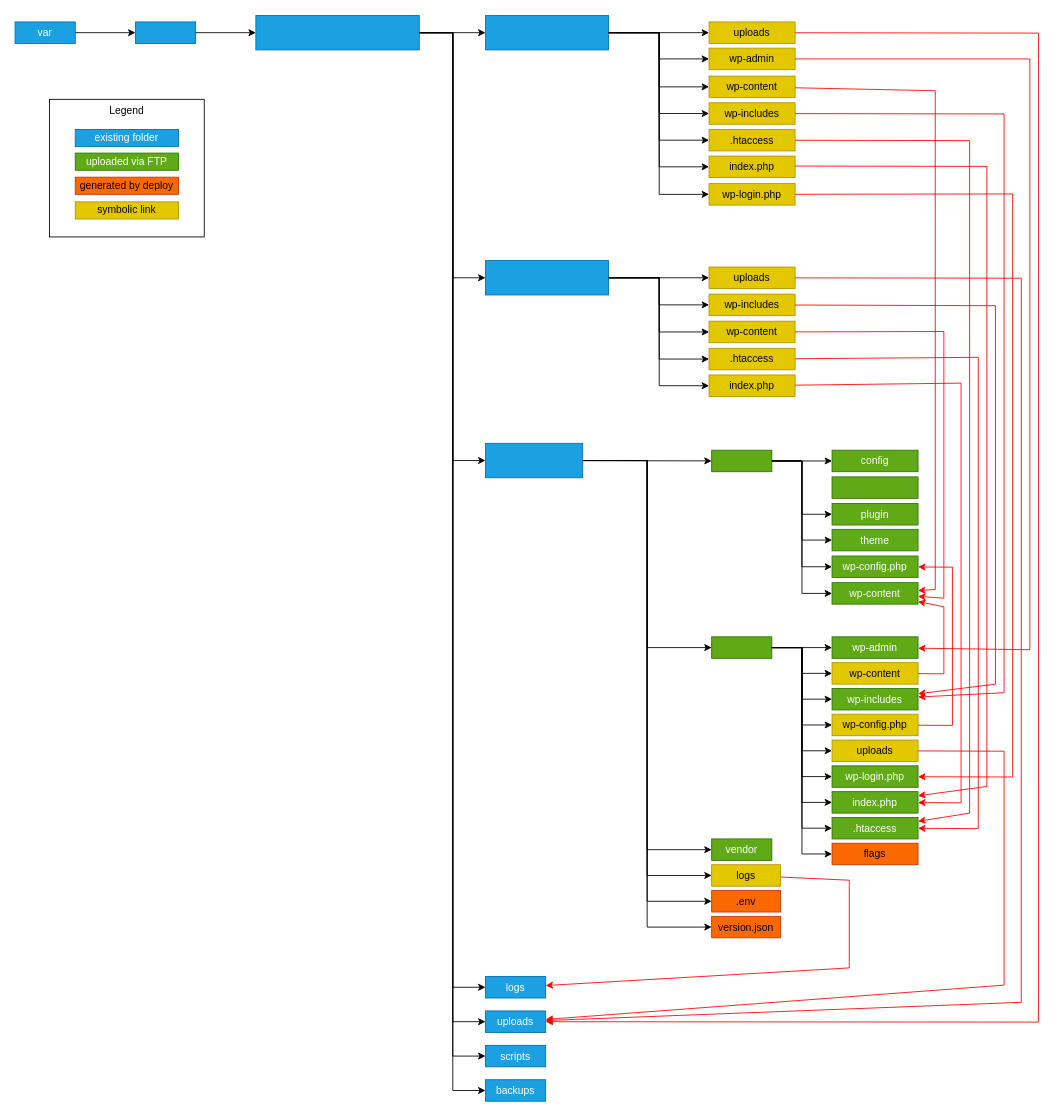
Some shapes in this 1060 by 1116 pixel diagram are drawn without their labels. Here are the shapes that lost their labels. From the top down, the centre of each, then its label:
the point at 165,32: www
the point at 337,32: environment-root (e.g. wedding.sytesbook.com)
the point at 546,32: main-domain-public
the point at 546,277: model-domains-public
the point at 534,460: deployment
the point at 741,460: src
the point at 874,487: migrations
the point at 741,647: wp
